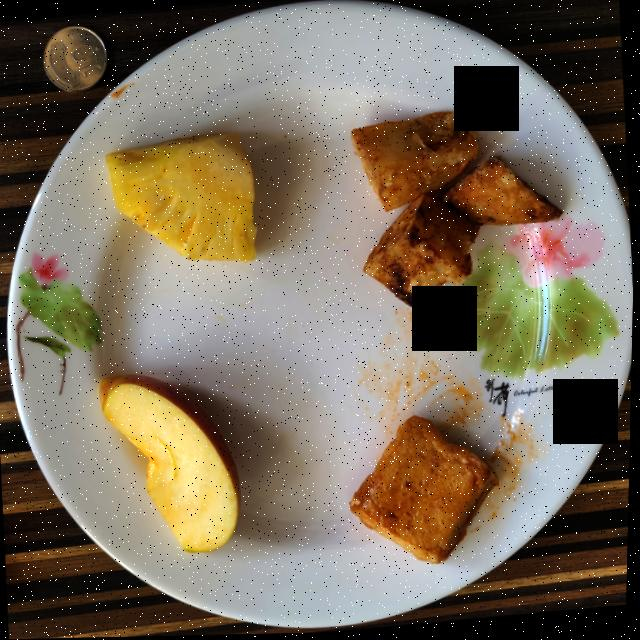apple -sliced-: (100, 375, 242, 553)
coin: (42, 26, 106, 92)
creamy tofu: (351, 417, 500, 565)
fried potato: (351, 114, 562, 308)
pineapple: (106, 134, 256, 264)
